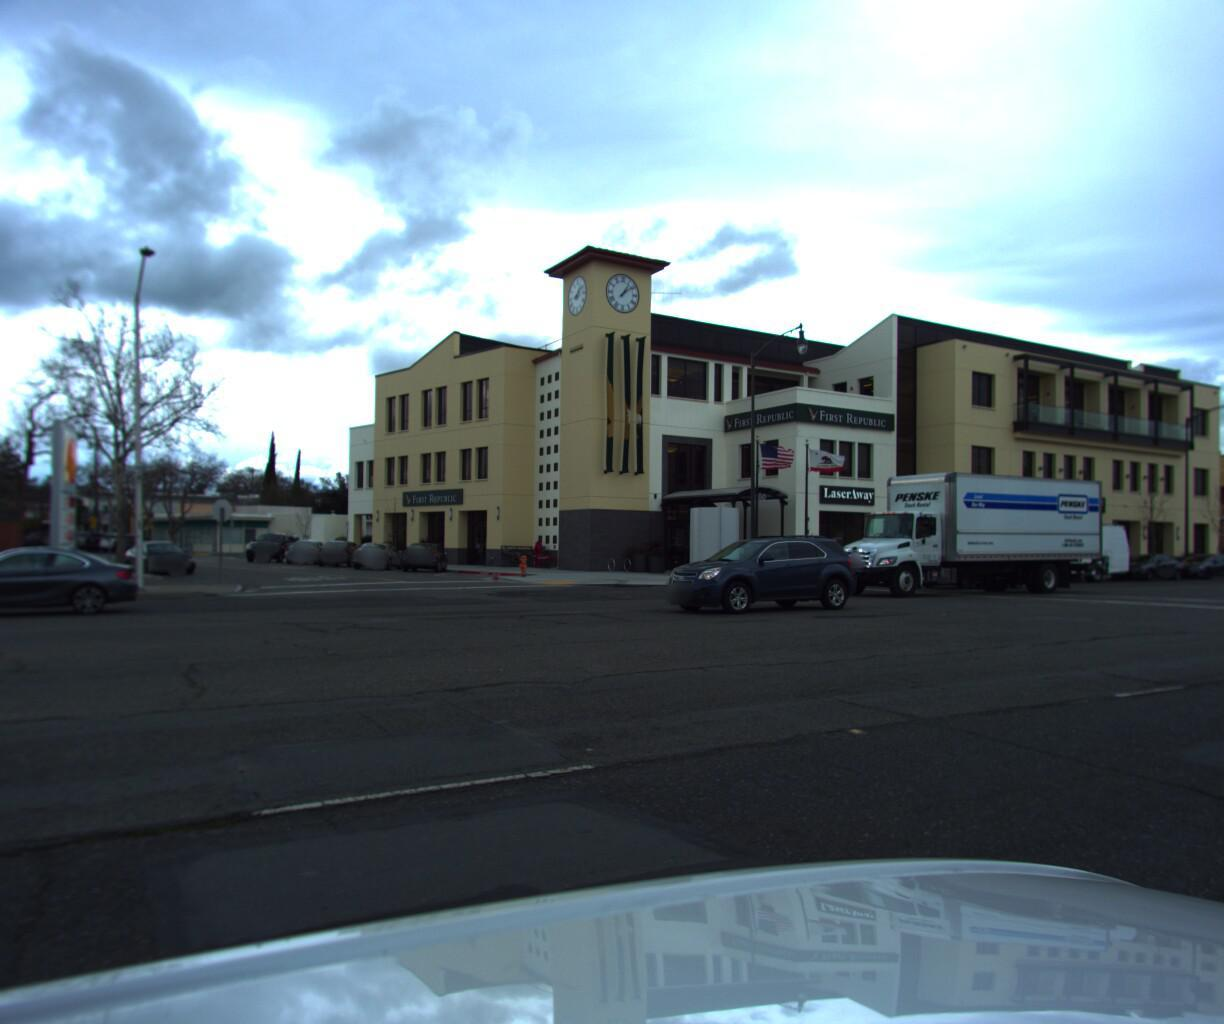car: (646, 532, 869, 618), (120, 537, 210, 575), (1099, 547, 1187, 578), (347, 538, 409, 570), (1157, 546, 1224, 575), (397, 539, 453, 573), (312, 537, 370, 567), (245, 533, 301, 562), (281, 536, 336, 564), (85, 533, 140, 551)
other_vehicle: (977, 513, 1133, 578)
truck: (803, 456, 1119, 599)
